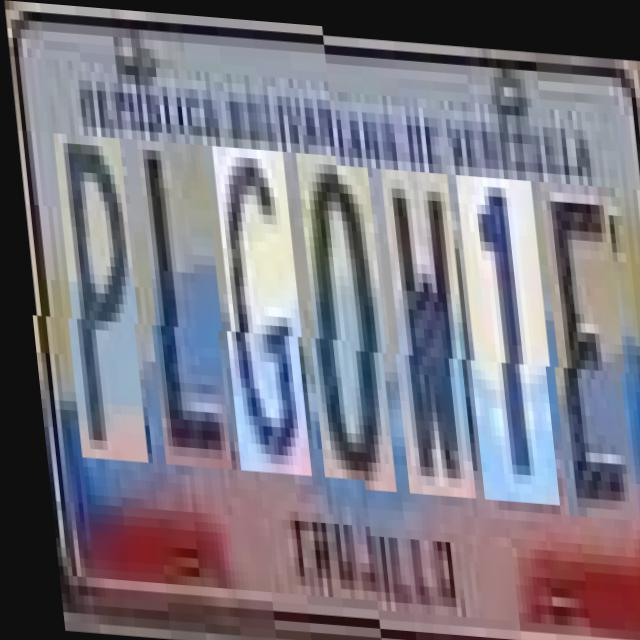1: (453, 168, 554, 497)
E: (537, 173, 630, 511)
G: (210, 152, 307, 481)
L: (135, 147, 227, 476)
O: (294, 158, 391, 487)
P: (52, 142, 144, 470)
W: (378, 163, 470, 492)
